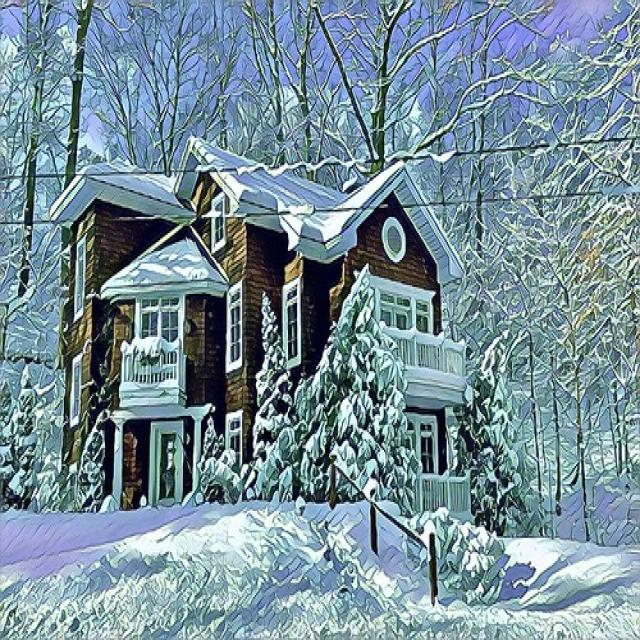building: (45, 134, 477, 532)
